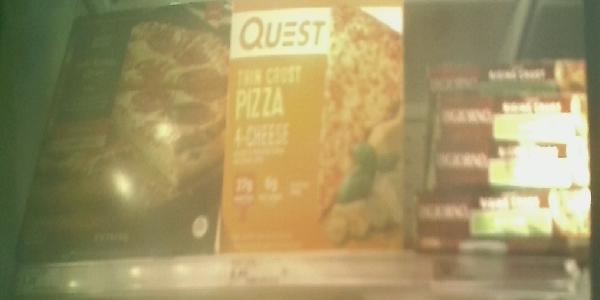pizza1: (22, 1, 223, 251), (225, 1, 406, 247)
pizza2: (429, 136, 593, 191), (416, 191, 591, 241), (437, 94, 594, 141), (425, 56, 587, 93)
